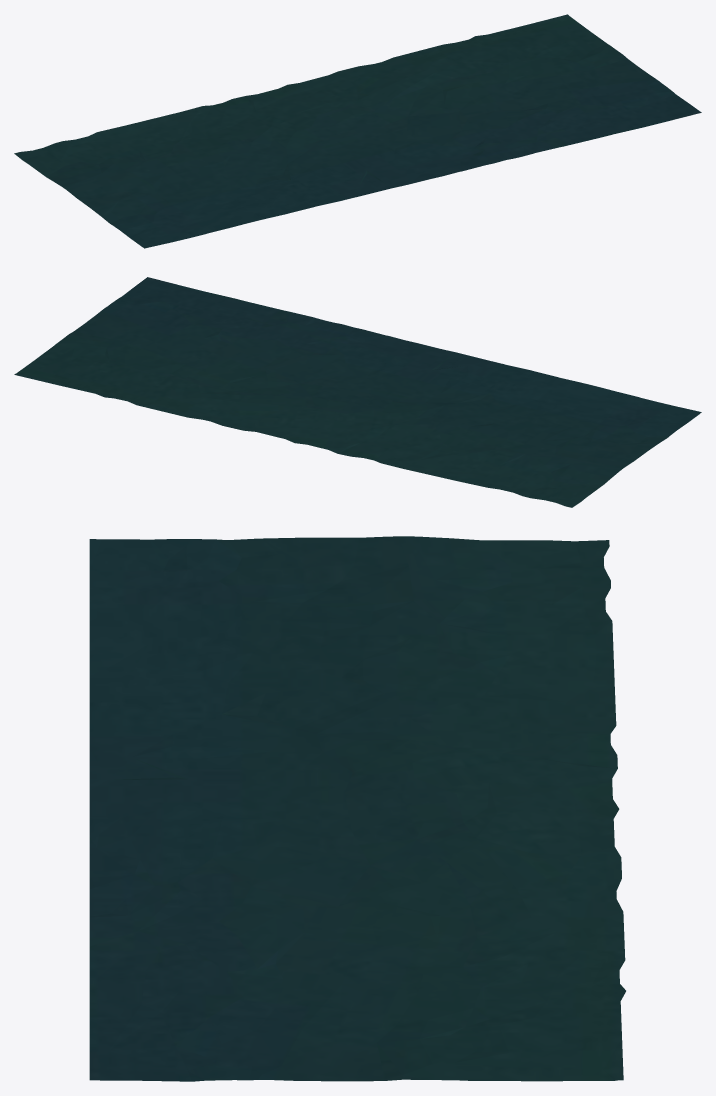
The picture shows the model from 3 angles, top to bottom: view 1: azimuth 30°, elevation 25°; view 2: azimuth 150°, elevation 25°; view 3: azimuth 270°, elevation 25°; orthographic projection. The views are drawn at different scales.
Size of the model in its own units: 209 by 1.08 by 87.59.
Materials: 1 (1 with a texture image).
